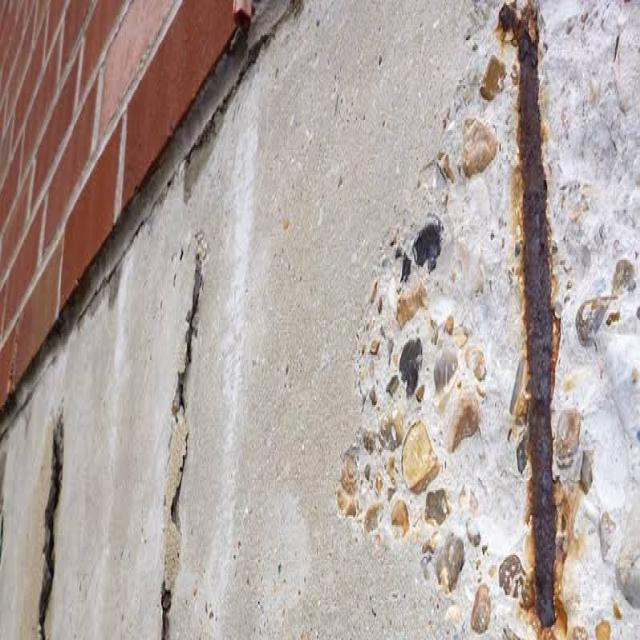Spalling: (346, 6, 623, 640), (137, 243, 222, 640), (14, 381, 84, 640)
